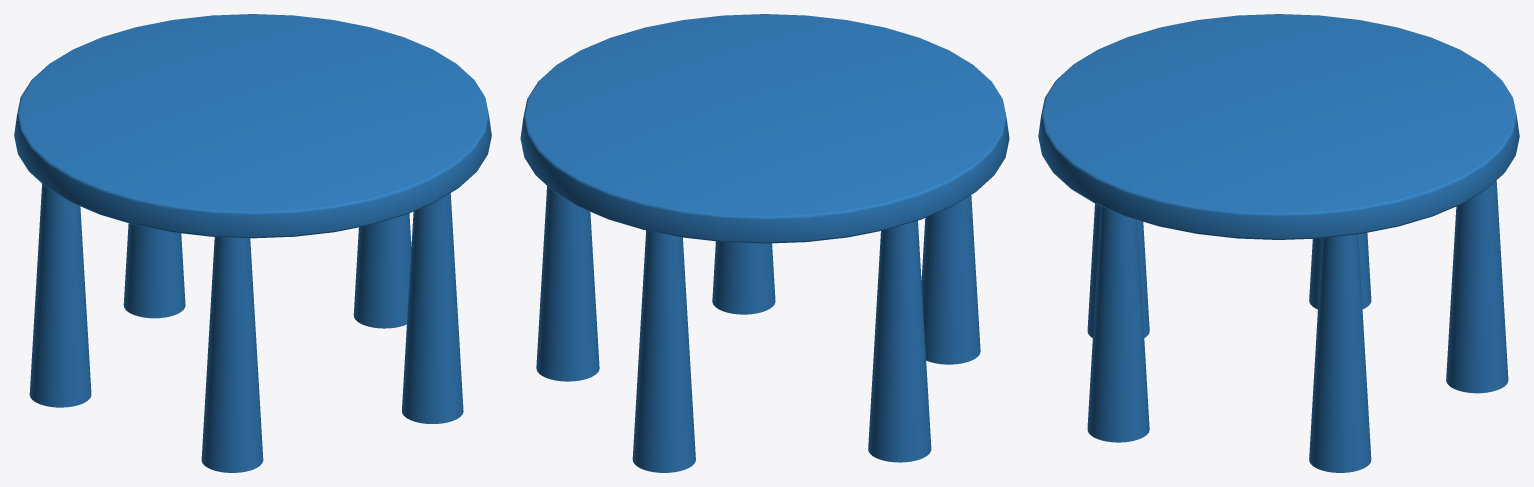
Rendered from Children Table.glb.
3 renders of one model, left to right at view 1: azimuth 30°, elevation 25°; view 2: azimuth 150°, elevation 25°; view 3: azimuth 270°, elevation 25°, orthographic. The views are drawn at different scales.
Visible parts, largest first — view 1: Object_2; view 2: Object_2; view 3: Object_2.
Part boxes in pixels (x1,y1,x2,y2): Object_2: (14,14,491,472); Object_2: (520,14,1009,472); Object_2: (1038,14,1519,472).
Bounding box in the file's own units: 85 × 51.91 × 85.
Materials: 1 (1 with a texture image).
